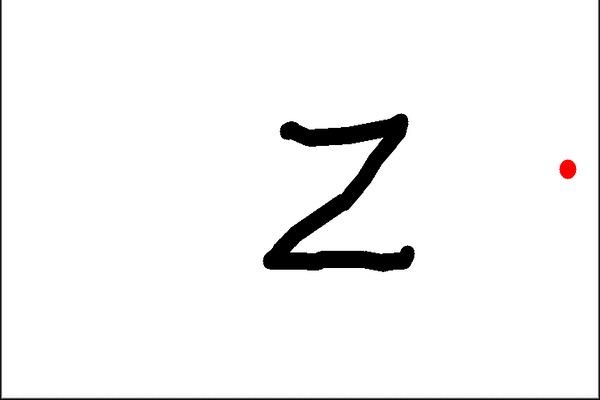Z: (252, 109, 421, 277)
